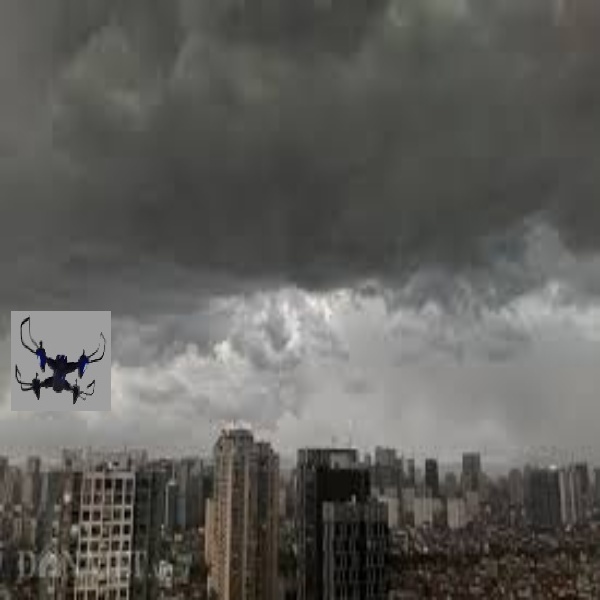drone: (10, 308, 110, 413)
